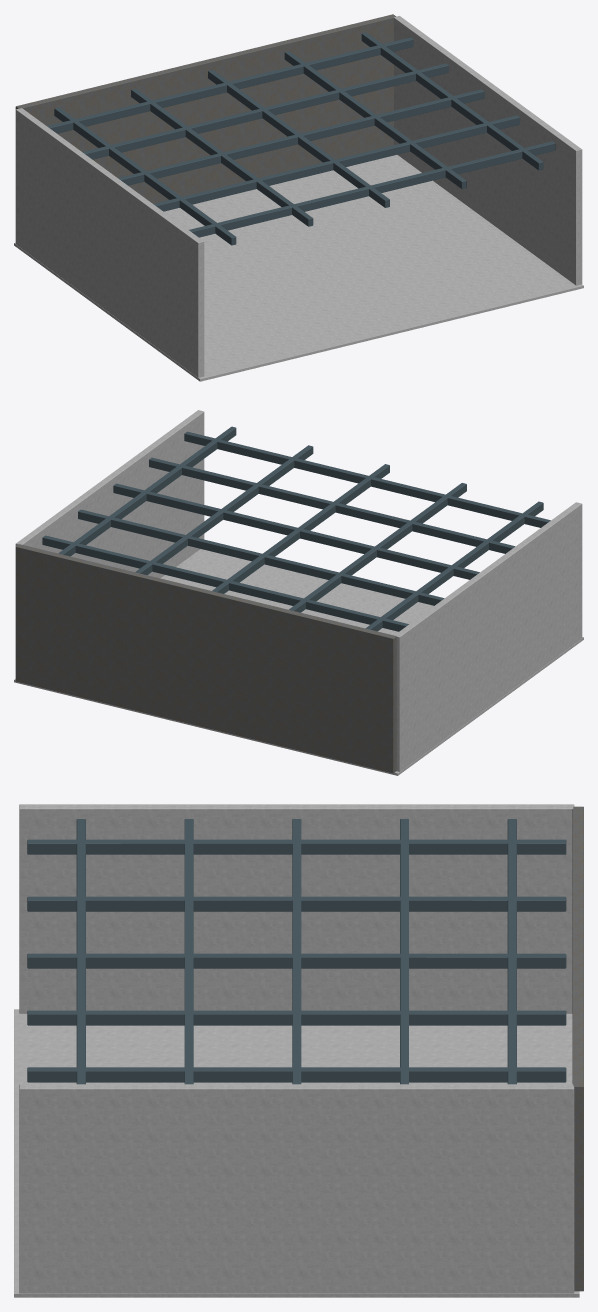
File: foundry-lite.glb
3 views of the same model, one above another, from view 1: azimuth 30°, elevation 25°; view 2: azimuth 150°, elevation 25°; view 3: azimuth 270°, elevation 25° (orthographic). The views are drawn at different scales.
Visible parts, largest first — view 1: Concrete foundry floor, Rear machine wall, Industrial side wall -12.3, Industrial side wall 12.3, Cross girder -8, Cross girder 8, Cross girder 0, Cross girder -4, Cross girder 4, Overhead girder 5, Overhead girder 10, Overhead girder -10 (+2 smaller); view 2: Rear machine wall, Industrial side wall -12.3, Industrial side wall 12.3, Concrete foundry floor, Cross girder -8, Cross girder 0, Cross girder 8, Cross girder 4, Cross girder -4, Overhead girder 5, Overhead girder -10, Overhead girder -5 (+2 smaller); view 3: Industrial side wall 12.3, Industrial side wall -12.3, Concrete foundry floor, Overhead girder -10, Overhead girder -5, Overhead girder 0, Overhead girder 5, Overhead girder 10, Rear machine wall, Cross girder 4, Cross girder 0, Cross girder -8 (+2 smaller).
Boxes of the visible parts, x1,y1,x2,y2 form: Concrete foundry floor: [14, 155, 583, 381]; Rear machine wall: [15, 14, 395, 203]; Industrial side wall -12.3: [15, 108, 204, 377]; Industrial side wall 12.3: [394, 16, 582, 285]; Cross girder -8: [47, 37, 413, 133]; Cross girder 8: [189, 141, 555, 237]; Cross girder 0: [118, 89, 484, 185]; Cross girder -4: [82, 63, 448, 159]; Cross girder 4: [153, 115, 519, 211]; Overhead girder 5: [284, 51, 466, 189]; Overhead girder 10: [361, 32, 543, 170]; Overhead girder -10: [54, 107, 236, 245]; Rear machine wall: [15, 544, 396, 773]; Industrial side wall -12.3: [394, 502, 582, 771]; Industrial side wall 12.3: [15, 410, 204, 578]; Concrete foundry floor: [14, 549, 583, 775]; Cross girder -8: [42, 535, 408, 631]; Cross girder 0: [113, 483, 479, 579]; Cross girder 8: [184, 431, 550, 527]; Cross girder 4: [149, 457, 515, 553]; Cross girder -4: [78, 509, 444, 605]; Overhead girder 5: [135, 445, 313, 574]; Overhead girder -10: [365, 501, 543, 631]; Overhead girder -5: [289, 483, 466, 612]; Industrial side wall 12.3: [19, 1084, 574, 1293]; Industrial side wall -12.3: [19, 804, 574, 1013]; Concrete foundry floor: [14, 1009, 579, 1297]; Overhead girder -10: [27, 839, 566, 854]; Overhead girder -5: [27, 896, 566, 911]; Overhead girder 0: [27, 953, 566, 968]; Overhead girder 5: [27, 1010, 566, 1025]; Overhead girder 10: [27, 1067, 566, 1082]; Rear machine wall: [572, 806, 583, 1291]; Cross girder 4: [184, 819, 193, 1084]; Cross girder 0: [292, 819, 301, 1084]; Cross girder -8: [507, 819, 516, 1084].
Size of the model in its own units: 25.02 by 8.56 by 21.16.
Materials: 3 (2 with a texture image).
